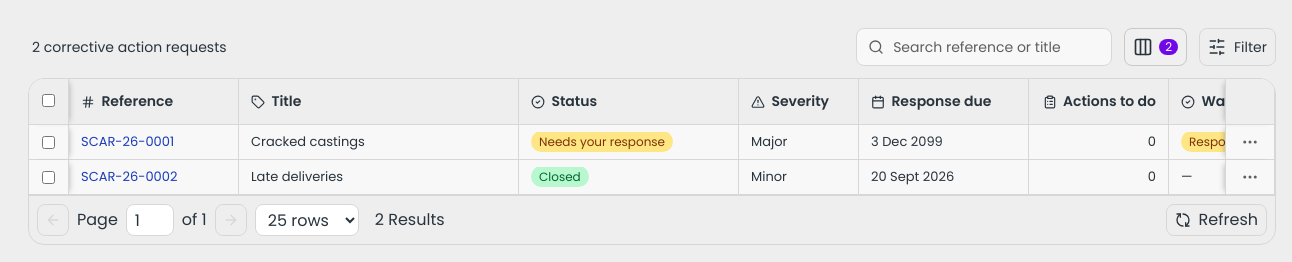
Test case: the other registers and pages › lists a supplier's corrective action requests and opens one on its own page
Expected: the text "Needs your response" is shown, [531,132,673,152]
Expected: the text "Respond" is shown, [1181,132,1250,152]
Click the link "SCAR-26-0001": (128, 142) [81,132,174,151]
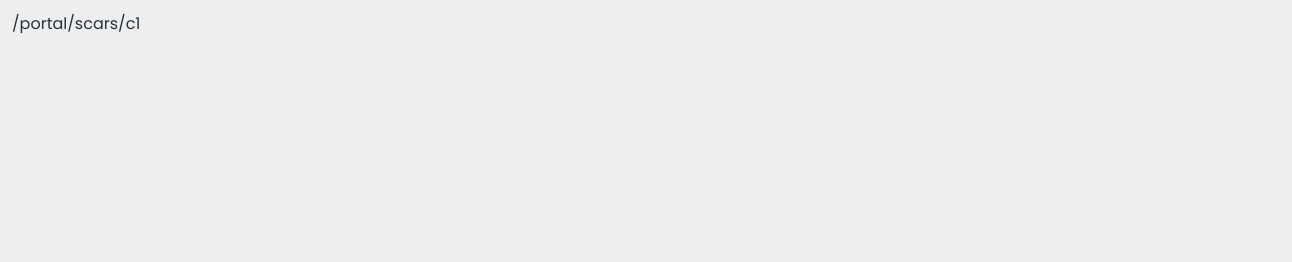
Result: the text with test id "where" reads "/portal/scars/c1" at [12,12,140,35]
